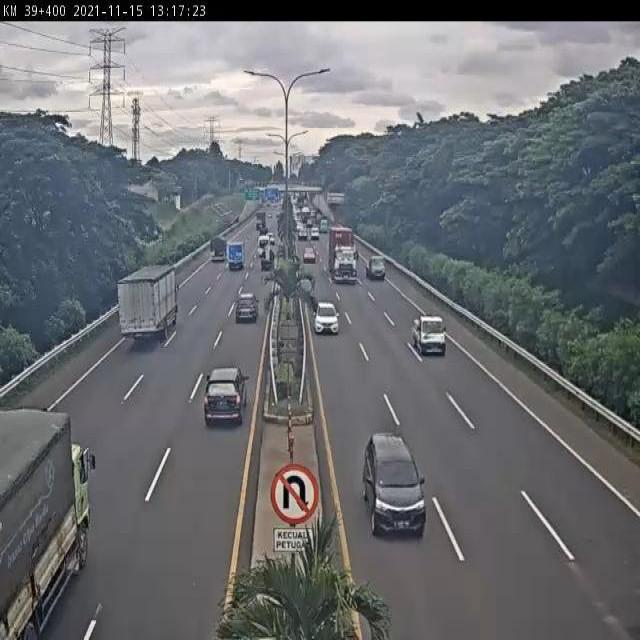car: (361, 429, 429, 540), (203, 366, 249, 430), (311, 300, 341, 336), (234, 289, 260, 327)
truck-m-: (0, 405, 93, 640), (116, 255, 181, 348)
truck-s-: (410, 311, 449, 358), (222, 241, 247, 272), (205, 236, 229, 265), (258, 245, 278, 275), (367, 253, 387, 280)
truck-xl-: (328, 224, 359, 280)
